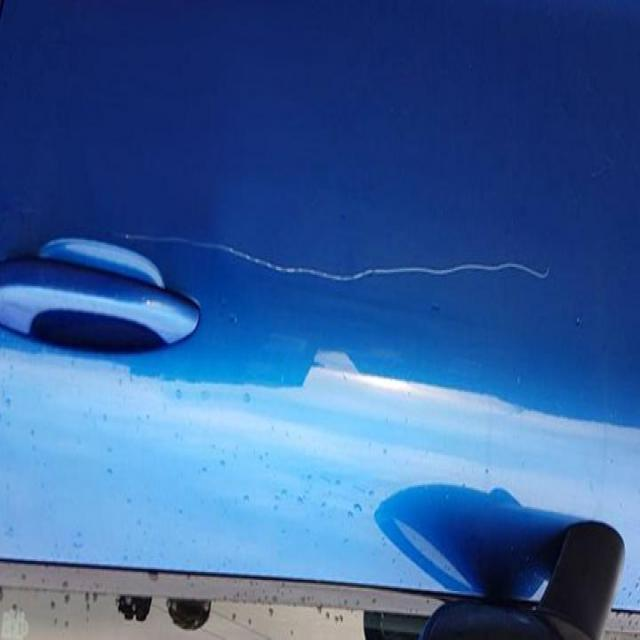scratch: (102, 211, 556, 309)
